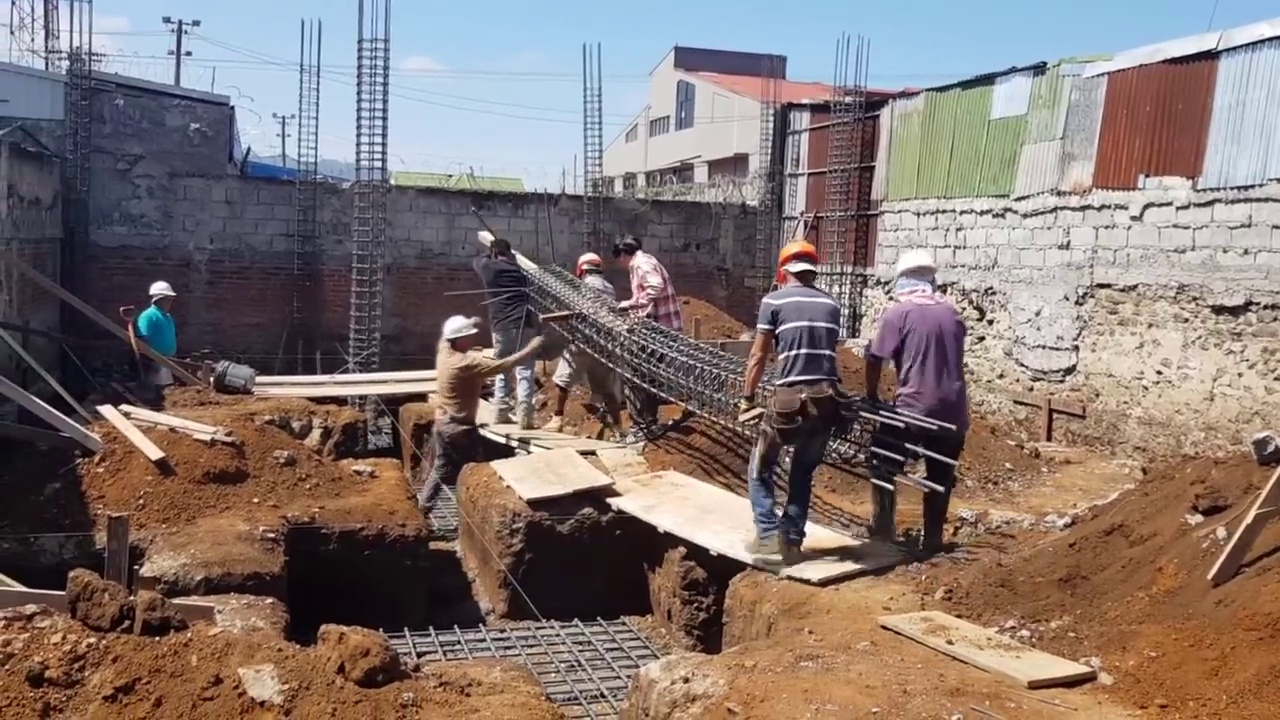helmet: (778, 234, 821, 282), (891, 255, 942, 286), (440, 319, 479, 341), (575, 252, 604, 277), (147, 282, 177, 297)
helmet-off: (609, 234, 645, 270), (489, 239, 513, 265)
helmet-on: (774, 234, 825, 294), (892, 254, 942, 305), (441, 315, 480, 357), (149, 280, 177, 315), (575, 252, 604, 283)
person: (858, 252, 966, 565), (749, 232, 848, 559), (420, 312, 545, 527), (605, 225, 695, 463), (545, 248, 631, 446), (473, 241, 542, 431), (134, 280, 177, 382)
